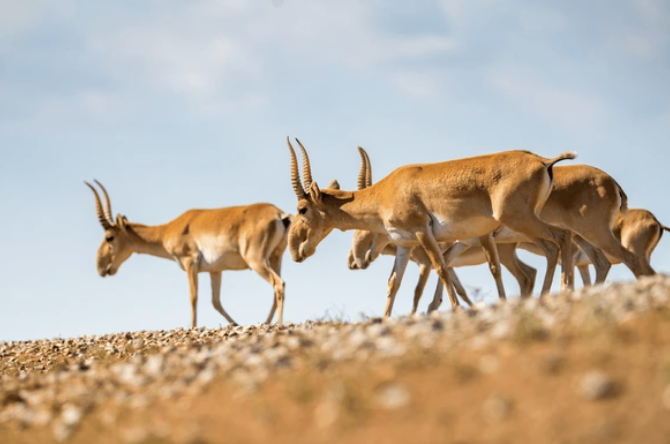saiga: (277, 136, 581, 297), (72, 160, 301, 322)
